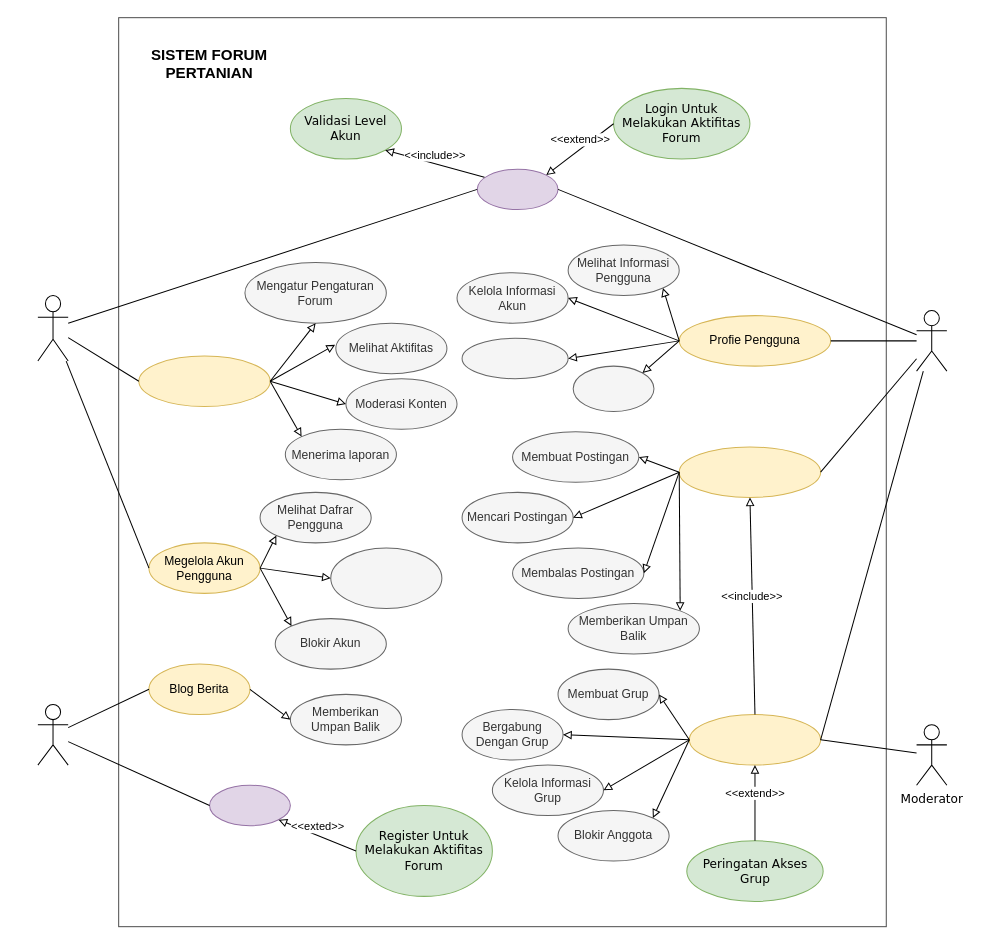
The diagram is 981 pixels wide and 944 high, and some of its shapes have lost their labels. Each missing label, with the centre of its shape:
"Administrator" belongs at [52,327].
"Anonimus" belongs at [52,734].
"Follow Akun Lain" belongs at [514,358].
"Grup Forum" belongs at [754,739].
"Hapus Akun" belongs at [613,388].
"Login" belongs at [517,189].
"Memberikan Hak Akses" belongs at [386,578].
"Mengelola Forum" belongs at [204,381].
"Register" belongs at [249,805].
"Thread / Question" belongs at [749,471].
"User" belongs at [931,340].
